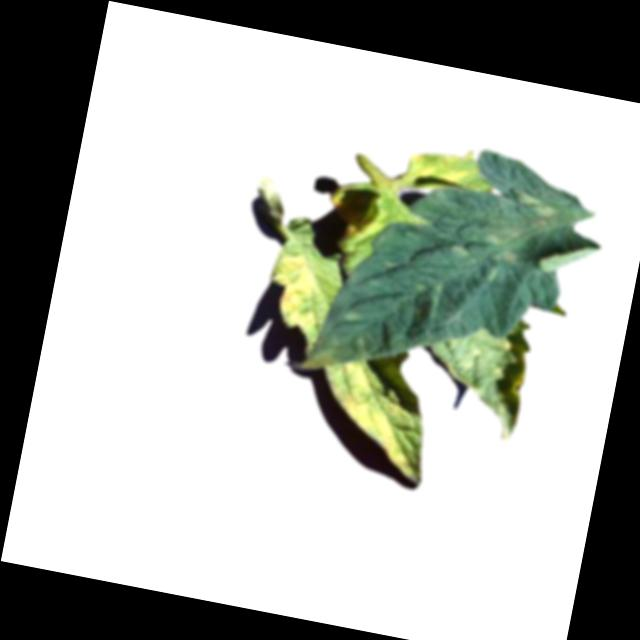Leaf_Mold: (307, 357, 439, 484), (263, 246, 329, 331), (402, 142, 483, 199), (479, 218, 532, 269), (323, 195, 379, 243), (507, 188, 559, 232)
